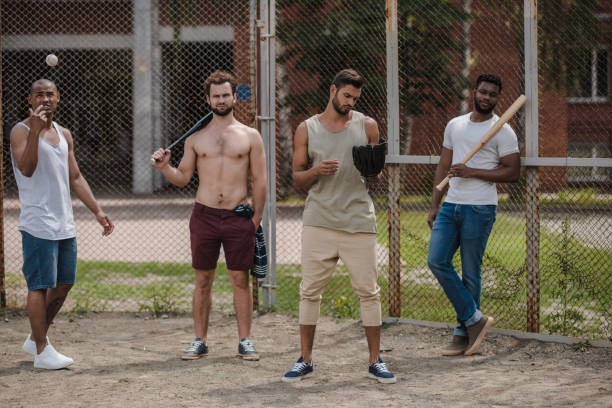bita: (438, 100, 525, 186)
